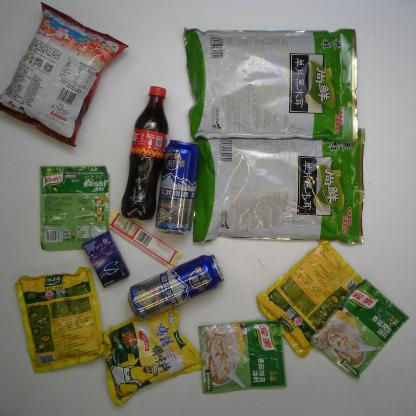Alcohol: (125, 247, 226, 324), (152, 136, 207, 235)
Chocolate: (103, 204, 184, 271)
Dried Food: (180, 18, 362, 147), (191, 126, 366, 252)
Drink: (119, 83, 172, 222)
Gum: (80, 230, 132, 287)
Puffed Food: (3, 1, 133, 151)
Seasoner: (252, 233, 362, 358), (310, 272, 412, 382), (10, 264, 109, 374), (96, 305, 204, 405), (193, 317, 291, 396), (32, 160, 115, 253)
